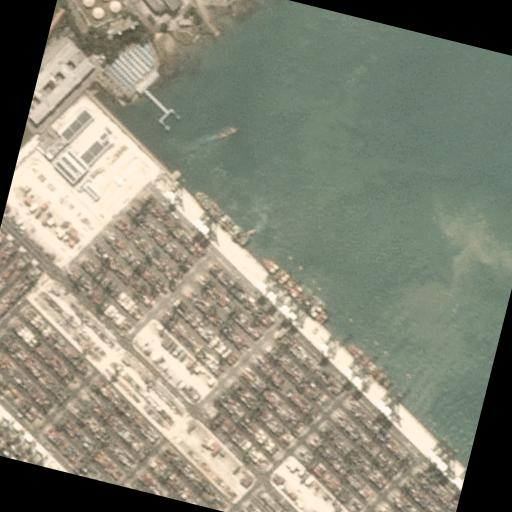ship: (248, 258, 338, 326), (182, 190, 256, 248), (213, 122, 239, 144)
